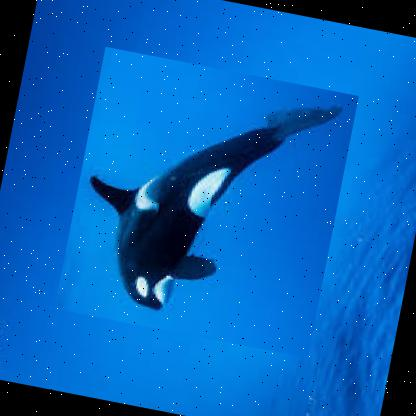killer_whale: (54, 44, 358, 356)
